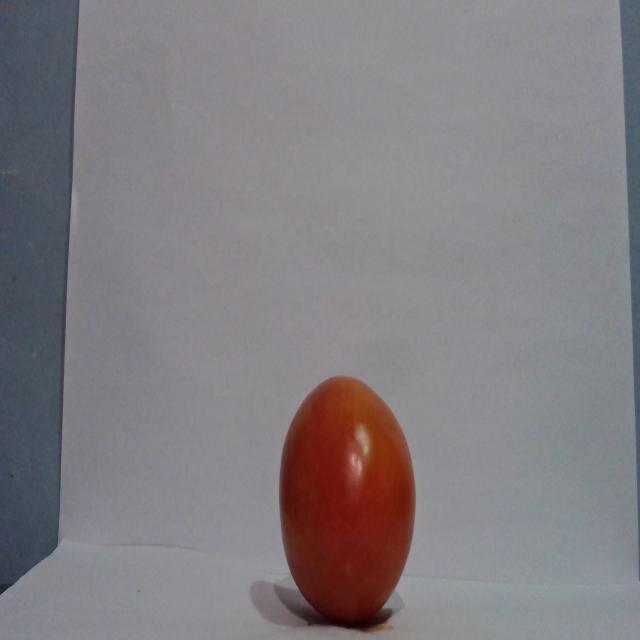Red: (277, 373, 416, 625)
